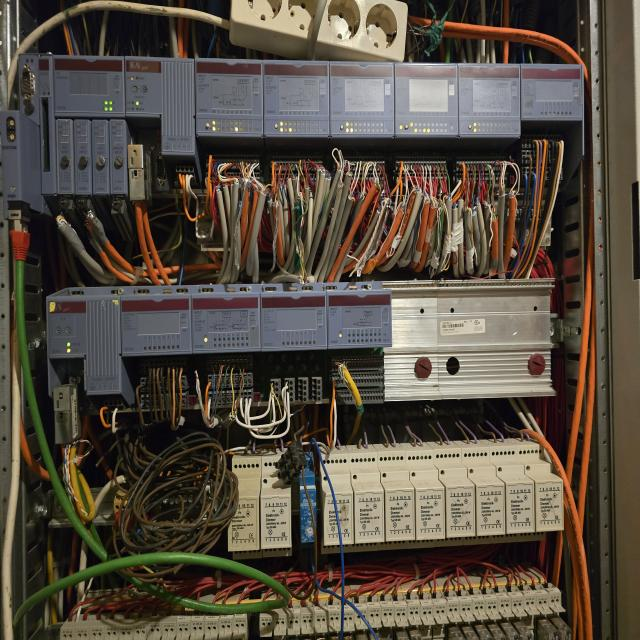Dimmer: (517, 444, 563, 542), (461, 447, 506, 545), (490, 446, 535, 543), (434, 449, 476, 546), (406, 450, 445, 549), (377, 451, 415, 550), (349, 452, 385, 553), (319, 452, 354, 554), (228, 457, 260, 561), (261, 456, 292, 556), (296, 451, 318, 544)
Relais: (541, 621, 557, 640), (558, 620, 571, 640), (464, 627, 477, 640), (478, 627, 491, 640), (492, 627, 505, 640), (449, 628, 463, 640), (520, 626, 532, 640), (409, 628, 422, 640), (506, 627, 518, 640), (397, 630, 408, 640)
SPS-System -Steuerungskomponente-: (54, 55, 127, 195), (123, 57, 196, 154), (195, 59, 263, 136), (262, 60, 329, 138), (330, 60, 394, 136), (394, 63, 458, 137), (458, 62, 520, 136), (45, 295, 118, 356), (192, 293, 260, 353), (121, 296, 191, 353), (261, 293, 327, 349), (327, 292, 392, 346), (521, 63, 582, 120)
Schaltkasten: (2, 0, 640, 640)
